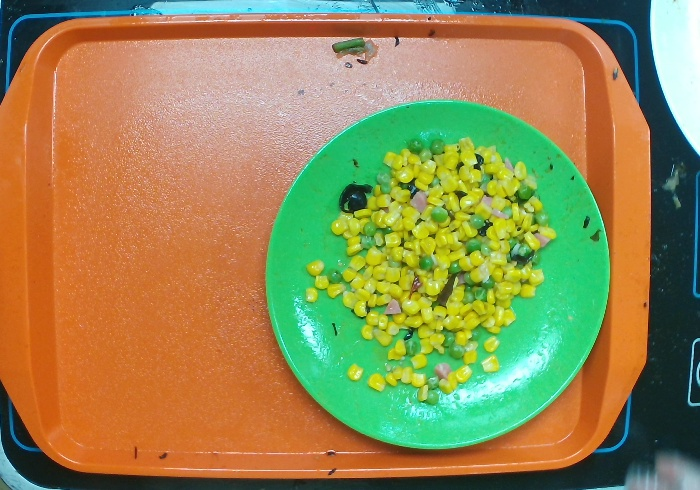HZYJPL-Lv_Se_Yuan_Pan: (252, 88, 617, 453)
